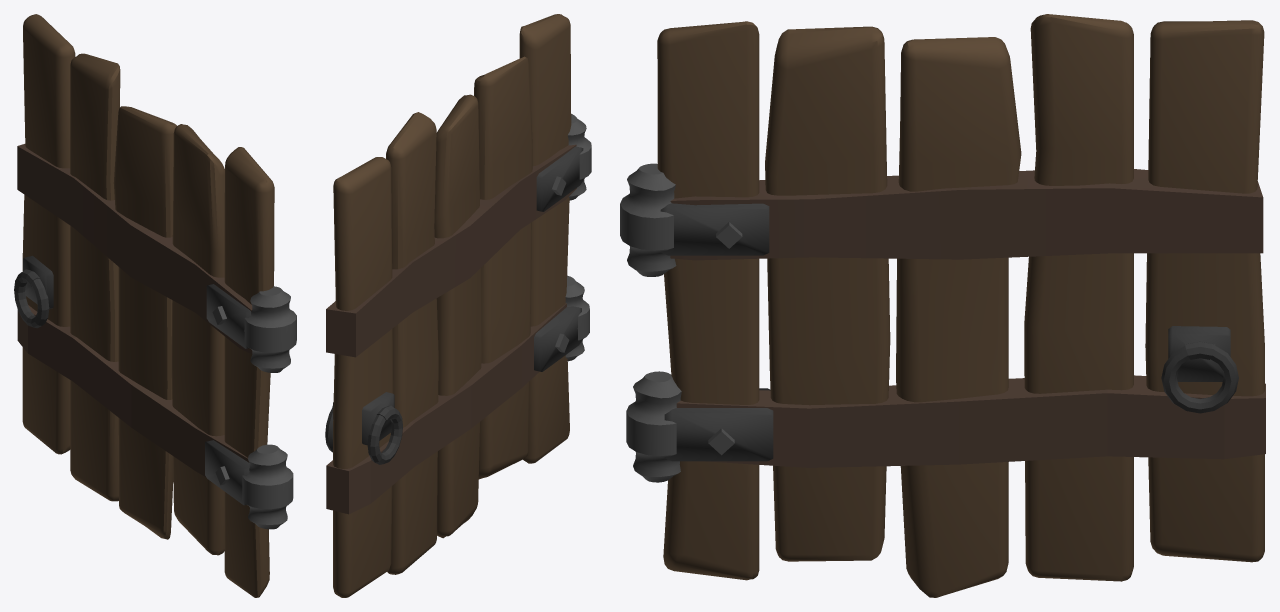
File: Door.fbx
3 renders of one model, left to right at view 1: azimuth 30°, elevation 25°; view 2: azimuth 150°, elevation 25°; view 3: azimuth 270°, elevation 25°, orthographic. The views are drawn at different scales.
Visible parts, largest first — view 1: Plane.006; view 2: Plane.006; view 3: Plane.006.
Boxes of the visible parts, bbox=[...] form: Plane.006: bbox=[14, 14, 296, 597]; Plane.006: bbox=[325, 14, 591, 597]; Plane.006: bbox=[620, 14, 1265, 597].
Size of the model in its own units: 28.97 by 205 by 207.
